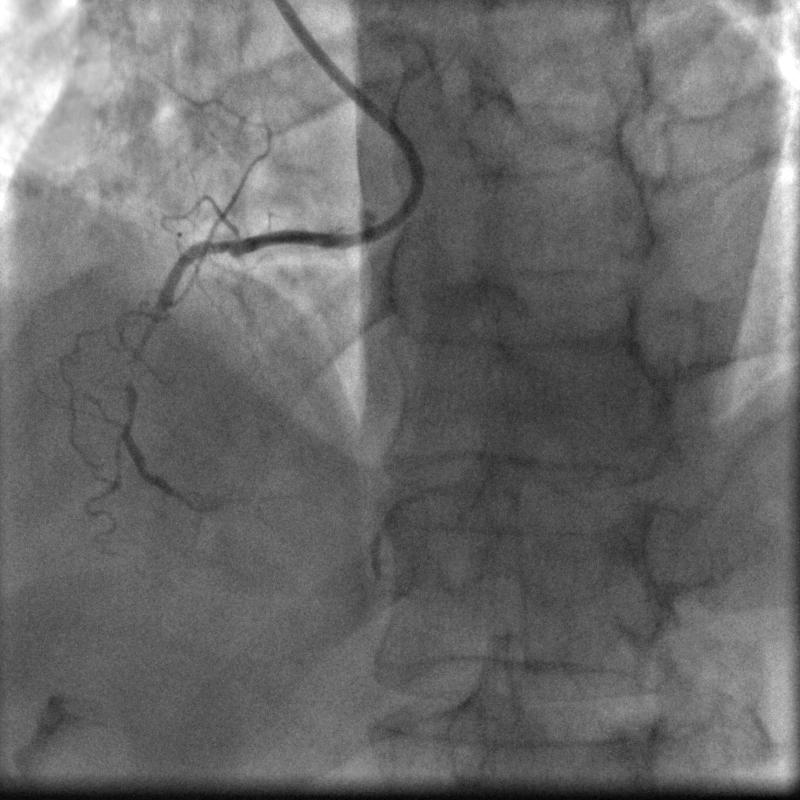Stenosis: (130, 299, 159, 402)
